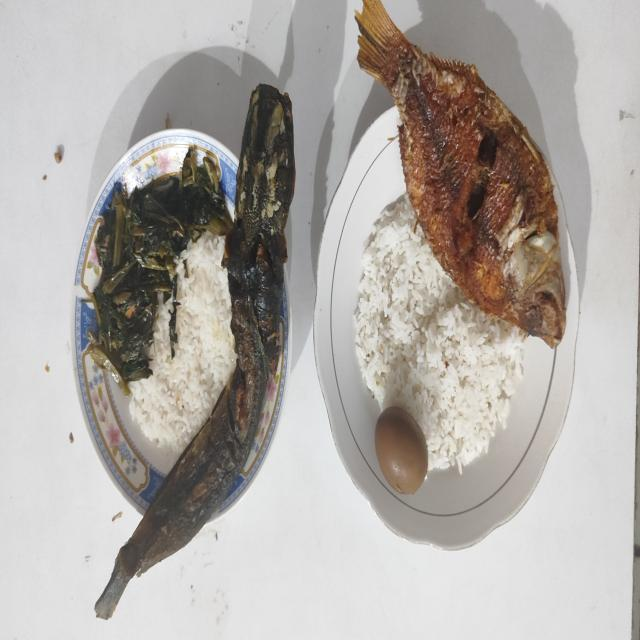ikan_mujair: (356, 0, 566, 348)
nasi_putih: (354, 195, 526, 471), (130, 232, 236, 458)
tumis_kangkung: (83, 145, 233, 394)
